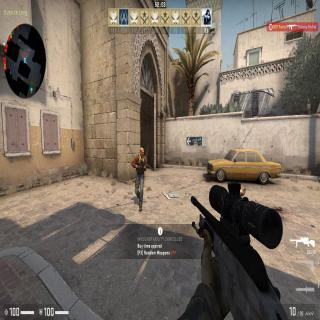T-Body: (132, 146, 148, 212)
T-Head: (139, 148, 145, 156)
